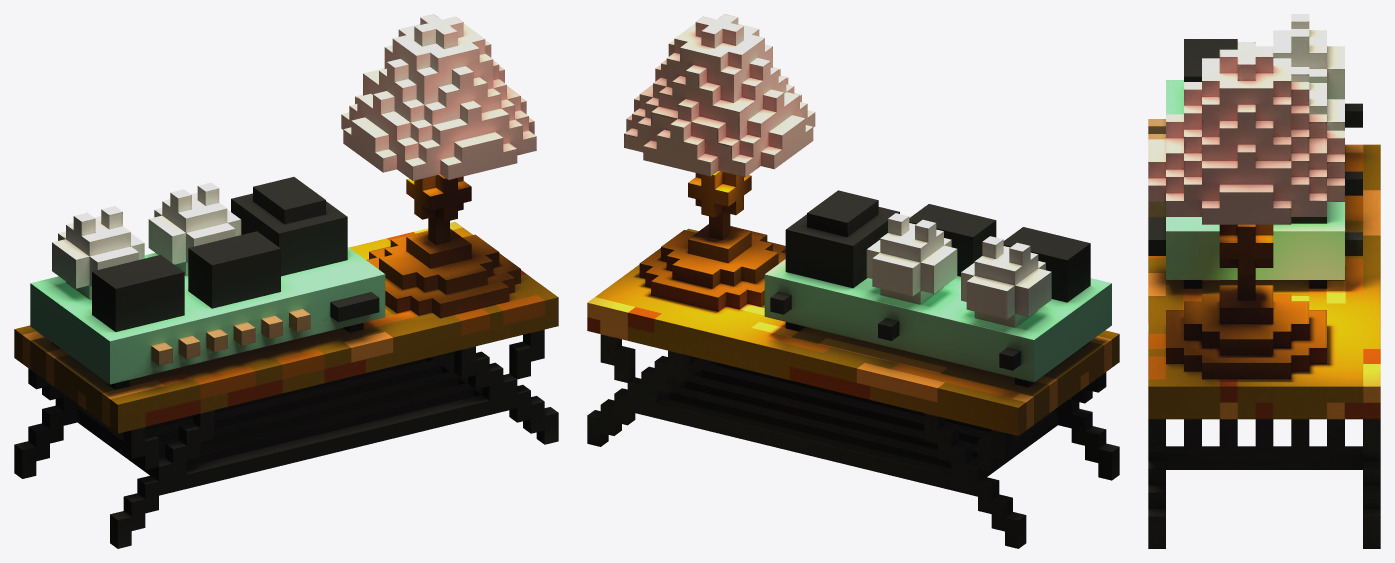
Rendered from table.glb.
3 renders of one model, left to right at view 1: azimuth 30°, elevation 25°; view 2: azimuth 150°, elevation 25°; view 3: azimuth 270°, elevation 25°, orthographic. The views are drawn at different scales.
Visible parts, largest first — view 1: table.002; view 2: table.002; view 3: table.002.
Part boxes in pixels (<box>): table.002: <box>14,14,558,548</box>; table.002: <box>587,14,1119,548</box>; table.002: <box>1148,14,1380,548</box>.
Bounding box in the file's own units: 6.56 × 5.74 × 2.67.
1 material, 1 textured.
